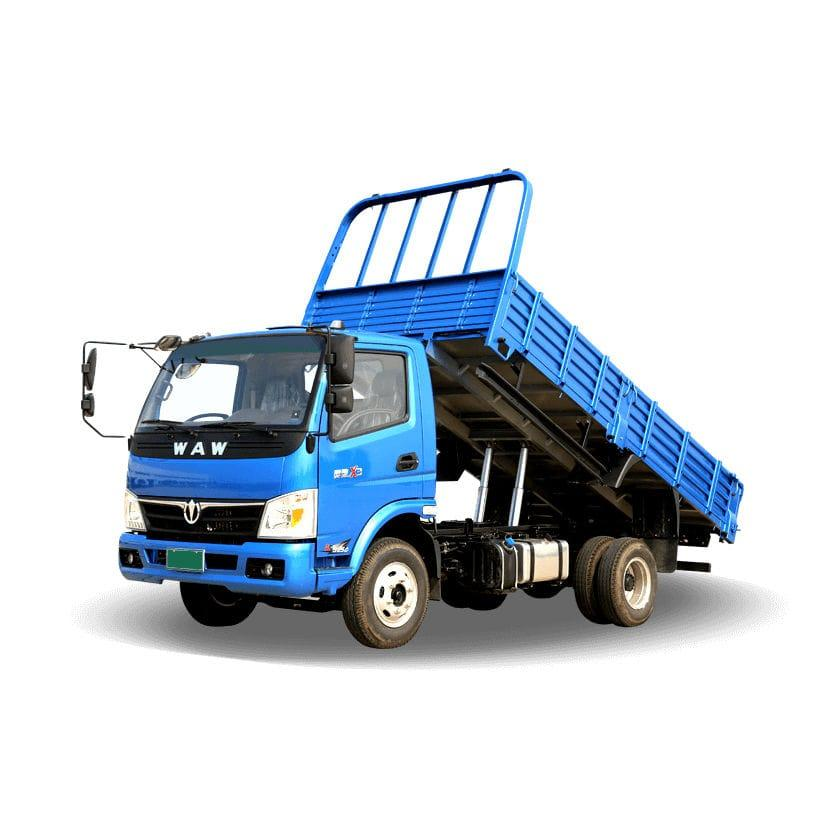truck: (61, 168, 757, 656)
